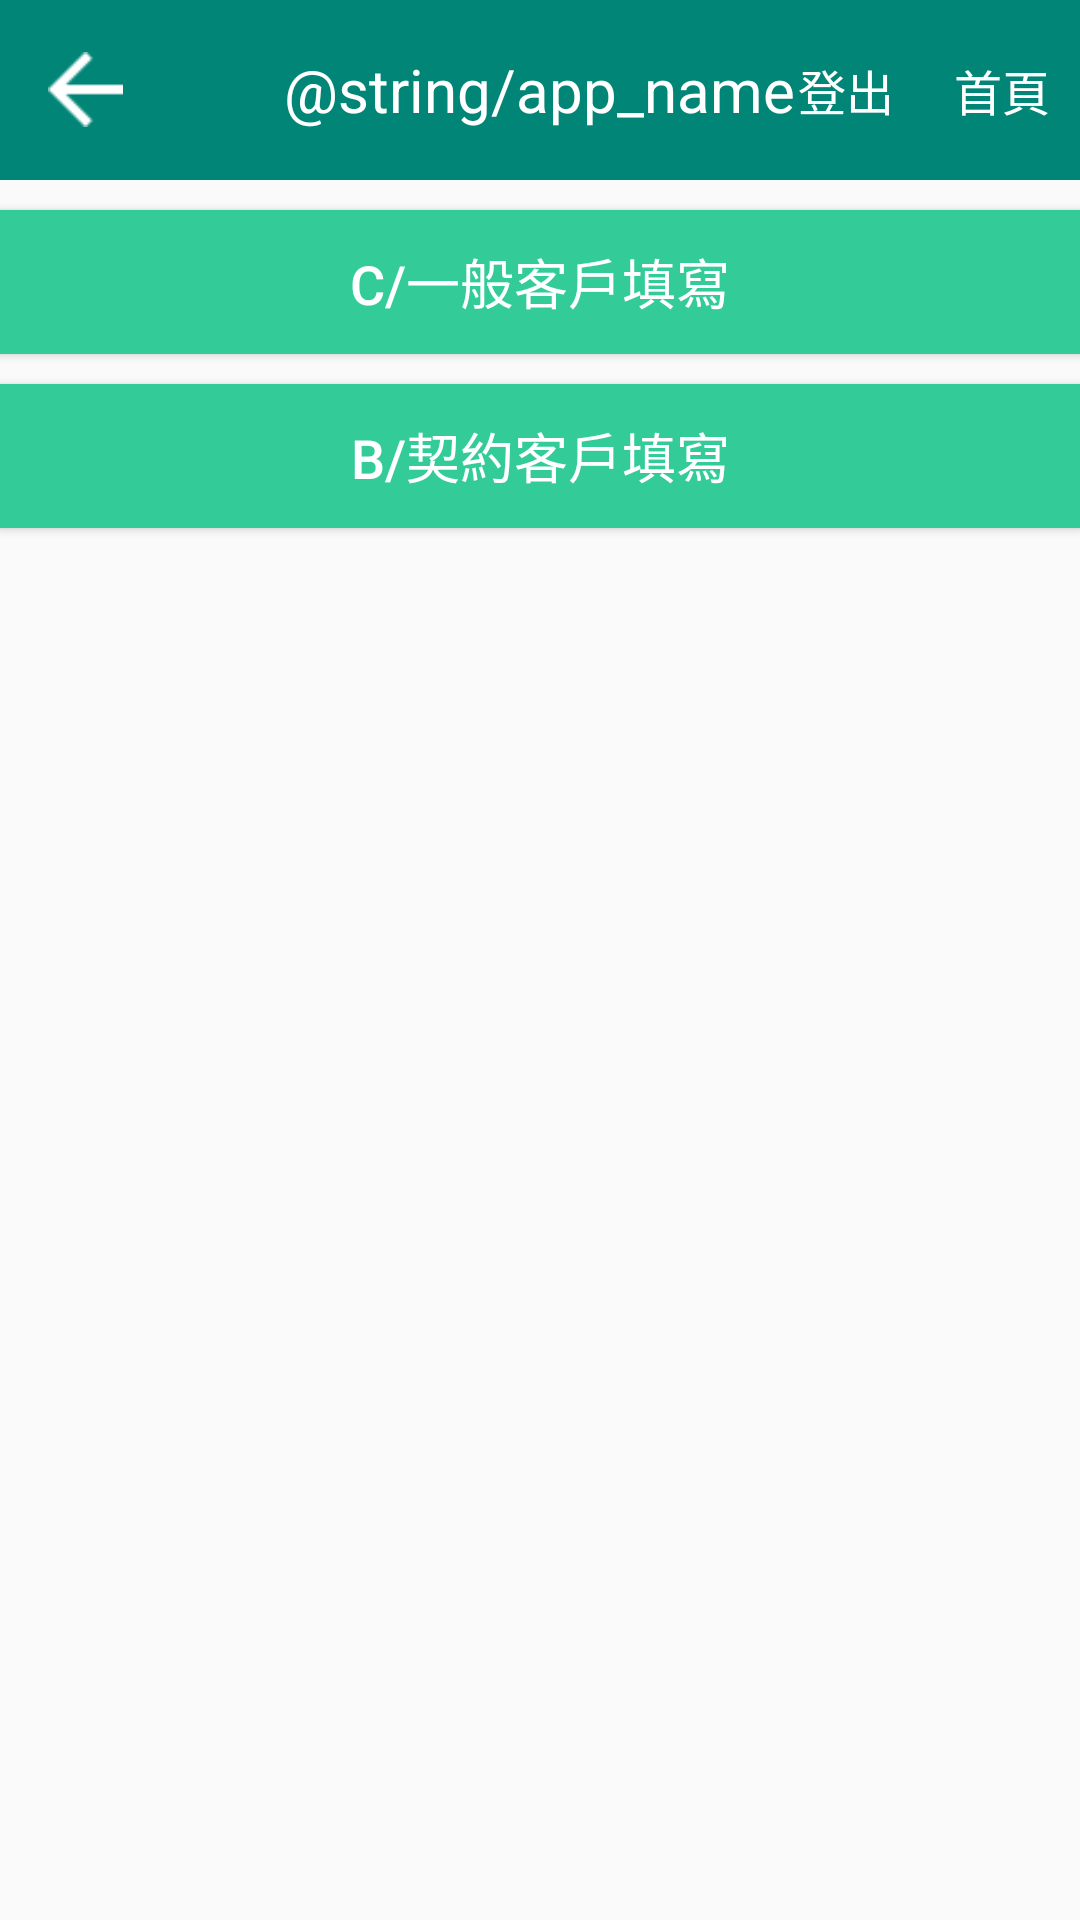

Locate icon controls on the screen. Image size 1080*1920, boxes as (x1, y1, x2, y2).
back: (48, 52, 123, 127)
